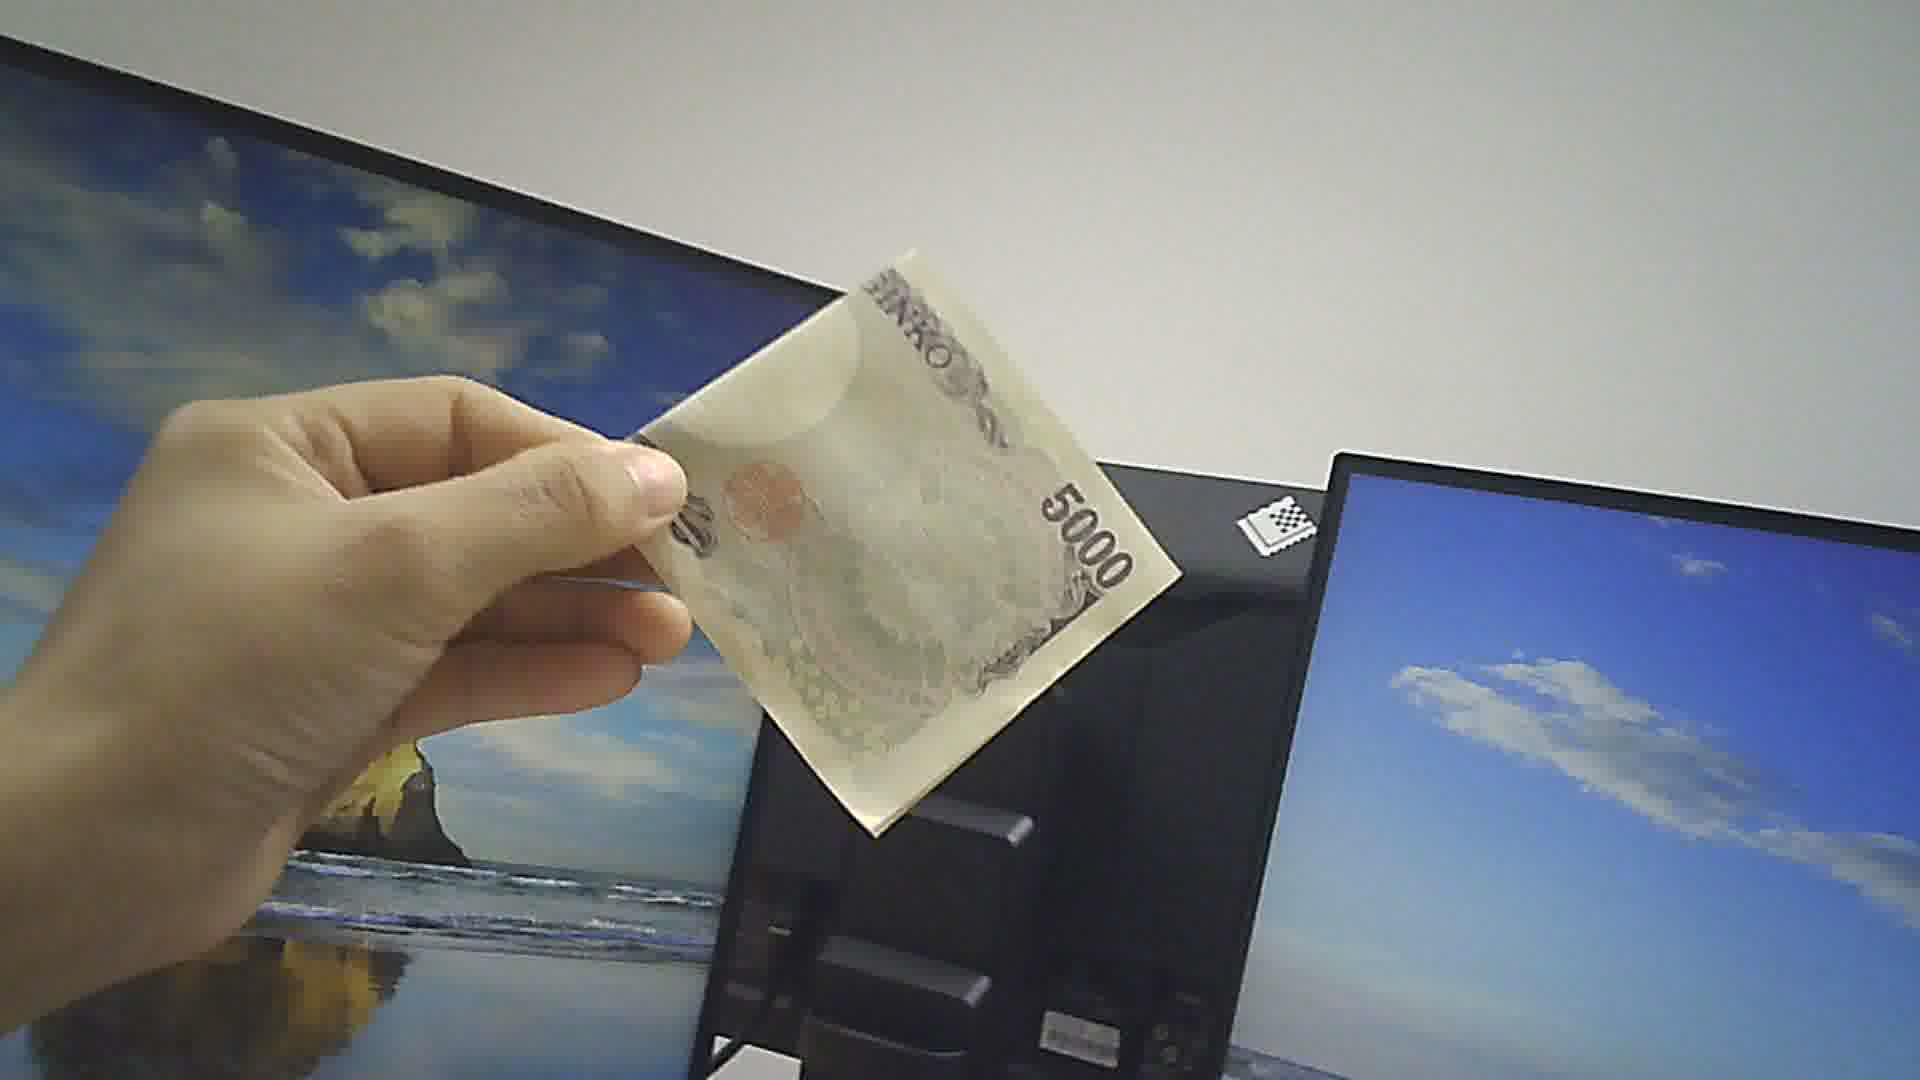5,000 Yen: (611, 228, 1215, 833)
